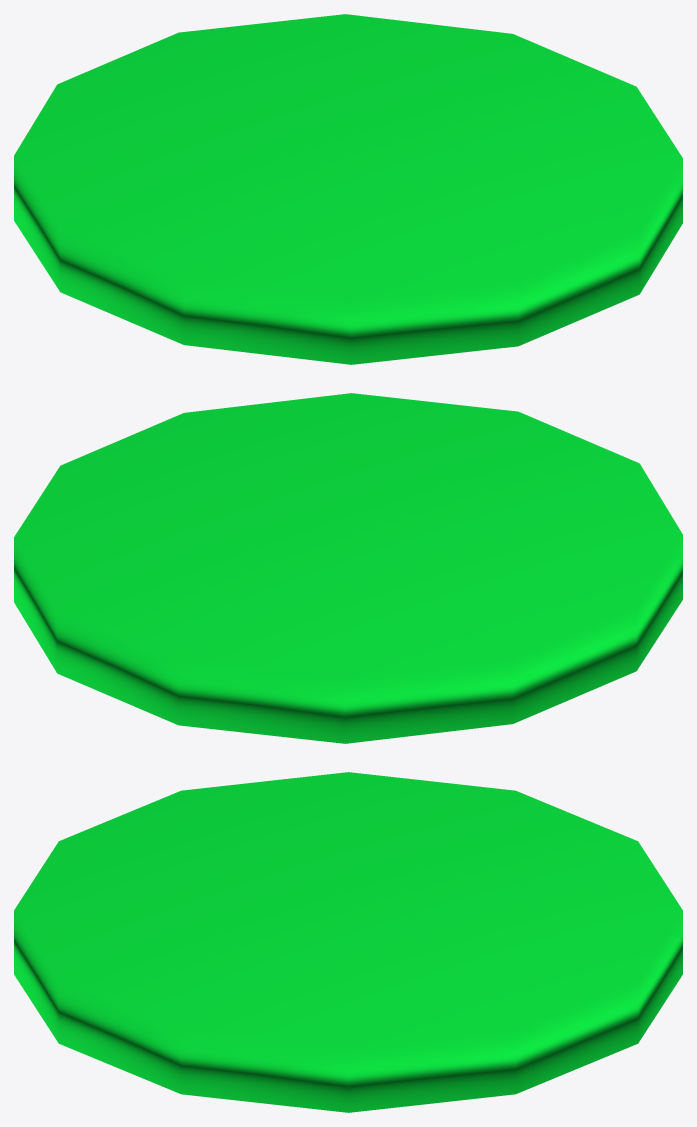
File: Cabinet_Leg_Base_B.fbx
The picture shows the model from 3 angles, top to bottom: view 1: azimuth 30°, elevation 25°; view 2: azimuth 150°, elevation 25°; view 3: azimuth 270°, elevation 25°; orthographic projection.
Parts seen in each view (by area): view 1: Cabinet_Leg_Base_B; view 2: Cabinet_Leg_Base_B; view 3: Cabinet_Leg_Base_B.
Boxes of the visible parts, bbox=[...] form: Cabinet_Leg_Base_B: bbox=[14, 14, 682, 364]; Cabinet_Leg_Base_B: bbox=[14, 393, 682, 743]; Cabinet_Leg_Base_B: bbox=[14, 772, 682, 1112].
Size of the model in its own units: 2.99 by 0.3219 by 3.05.
